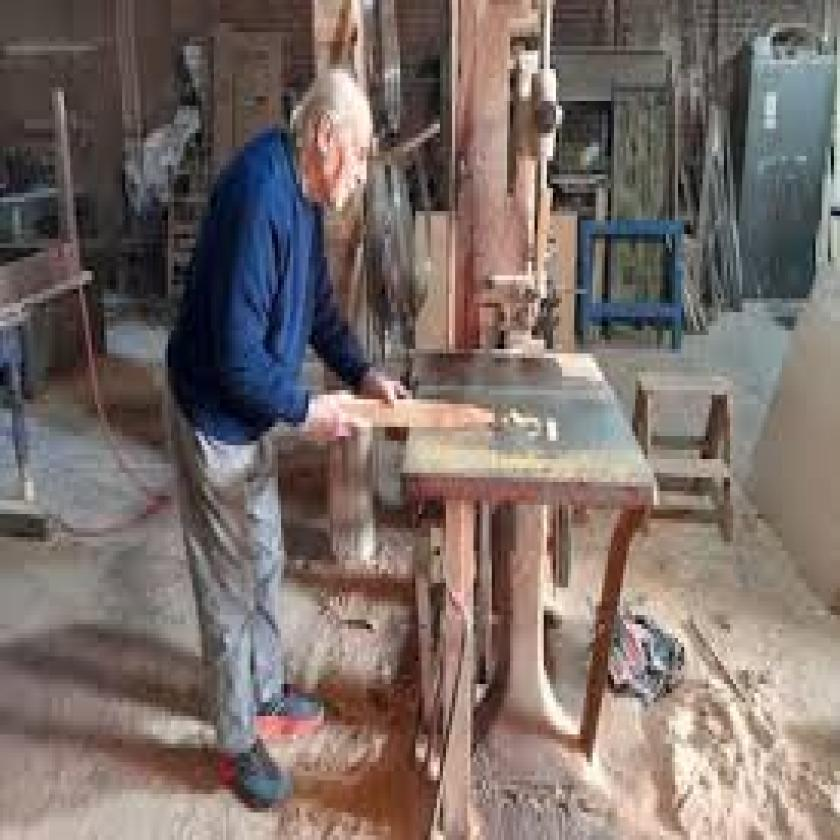Sin_casco: (291, 58, 394, 240)
